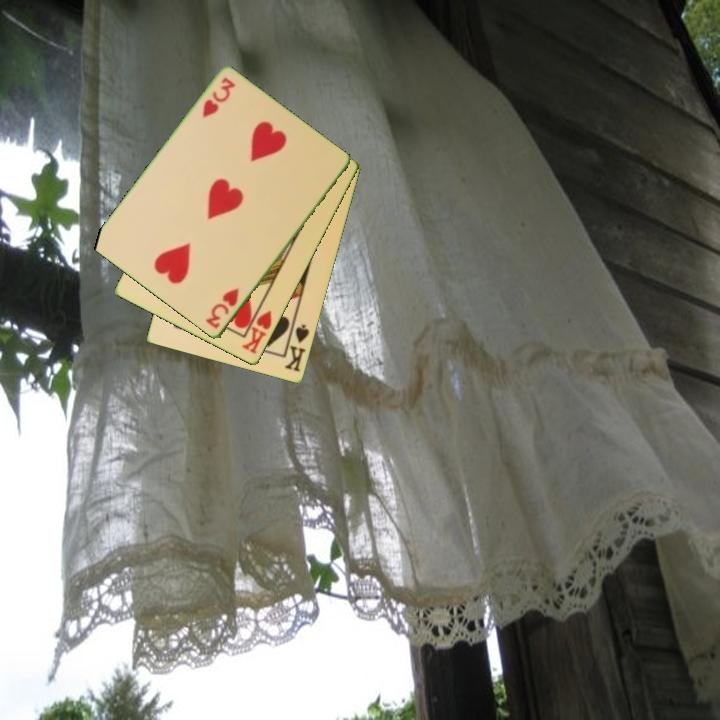3h: (202, 285, 242, 332), (199, 74, 238, 121)
Kh: (238, 301, 275, 357)
Ks: (281, 318, 312, 375)
